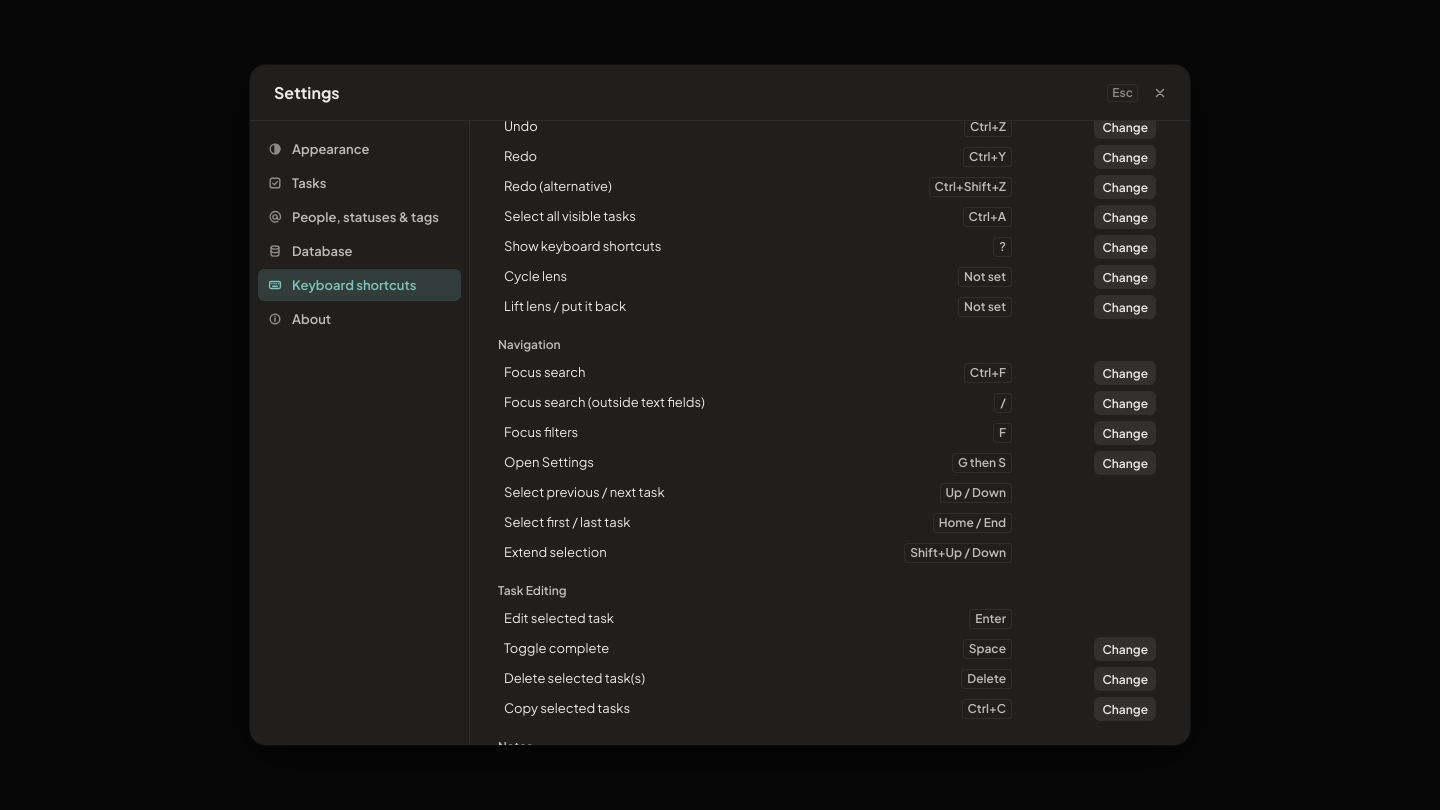
Test: Settings › Keyboard shortcuts editor › refuses keys another shortcut uses, saying which, and keeps recording
This screenshot has width=1440, height=810.
(page scrolled)
Click the button "Change" in the row of "Focus filters" at (1125, 433), box [1094,421,1156,445]
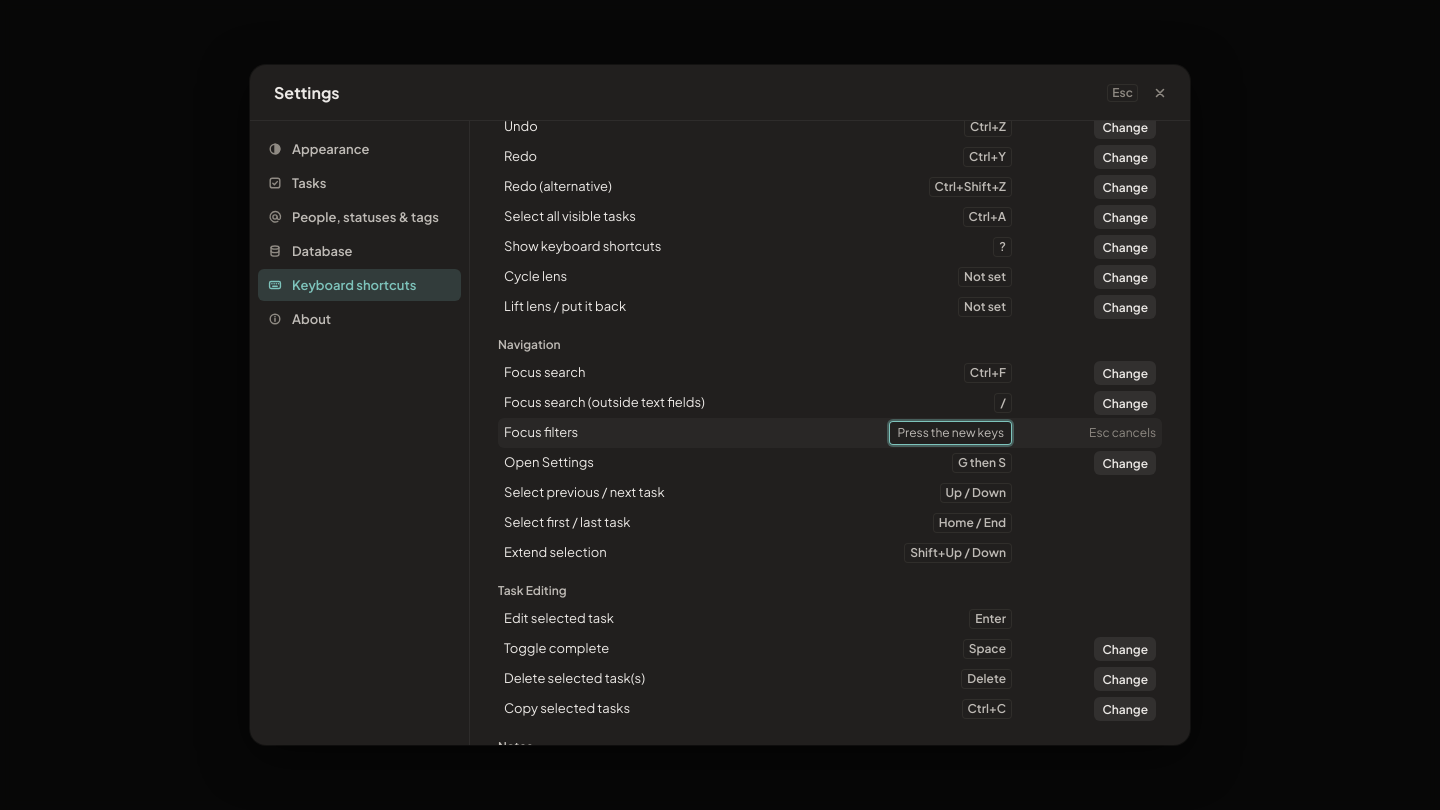
Press k in the field labelled "Press the new keys", box [889,421,1012,445]
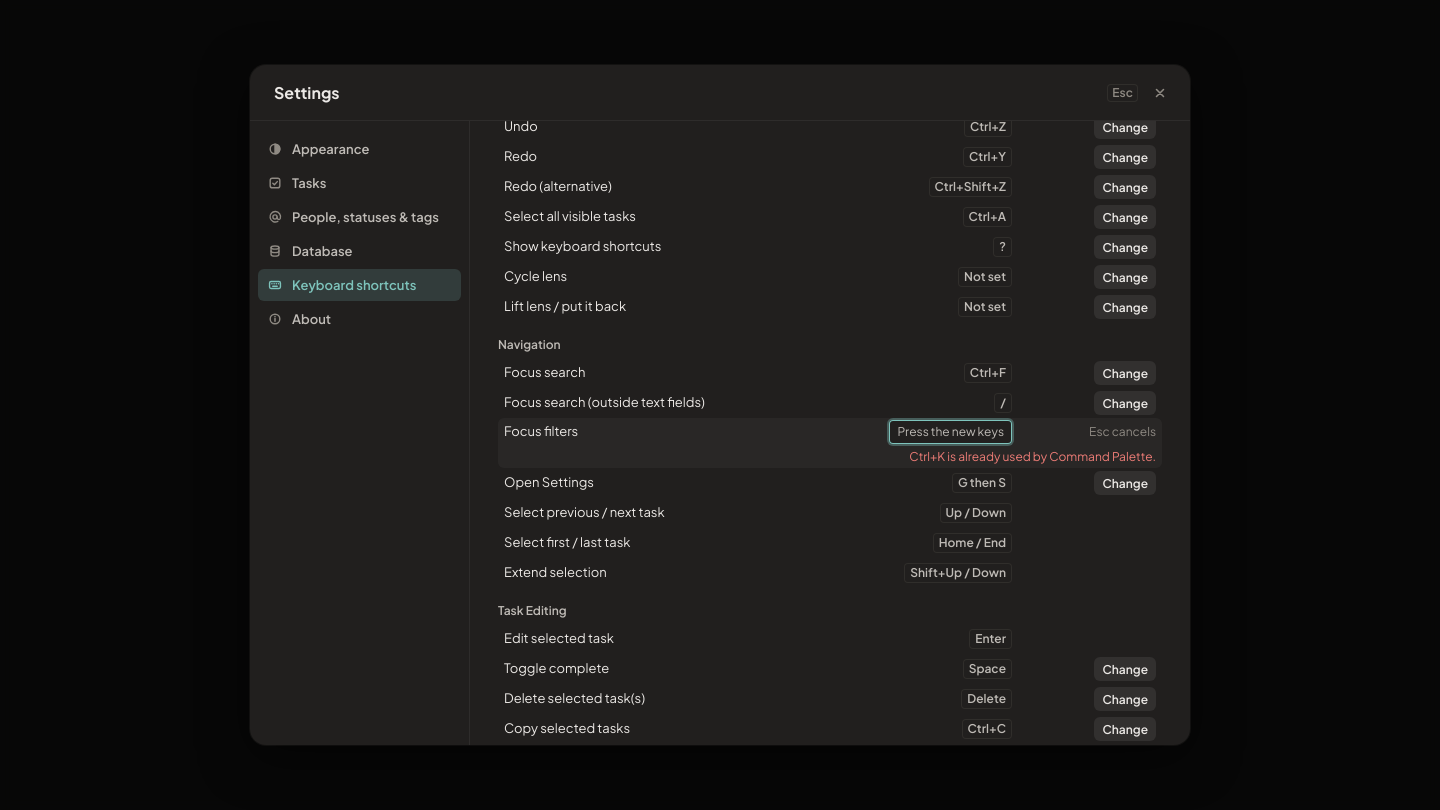
Now the message reads "Ctrl+K is already used by Command Palette.", box [909,449,1156,464]
